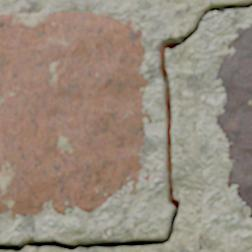brick: (0, 12, 151, 217), (216, 25, 251, 218), (142, 175, 149, 180)
crack: (0, 1, 251, 251)
